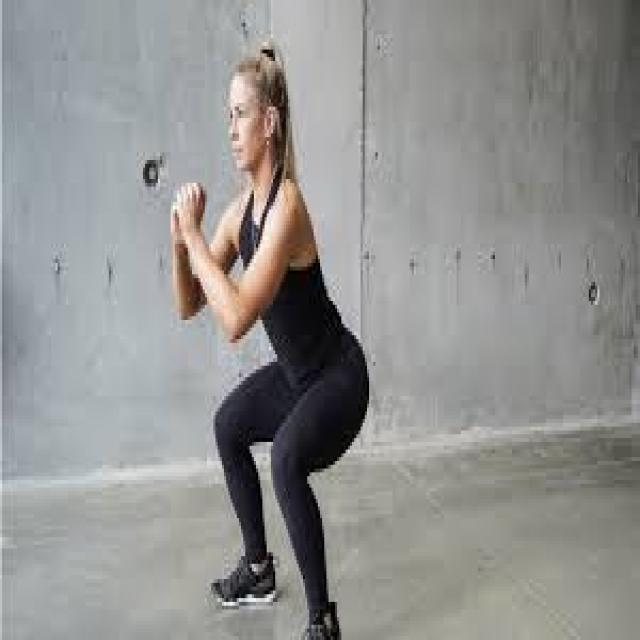squat: (172, 45, 372, 640)
